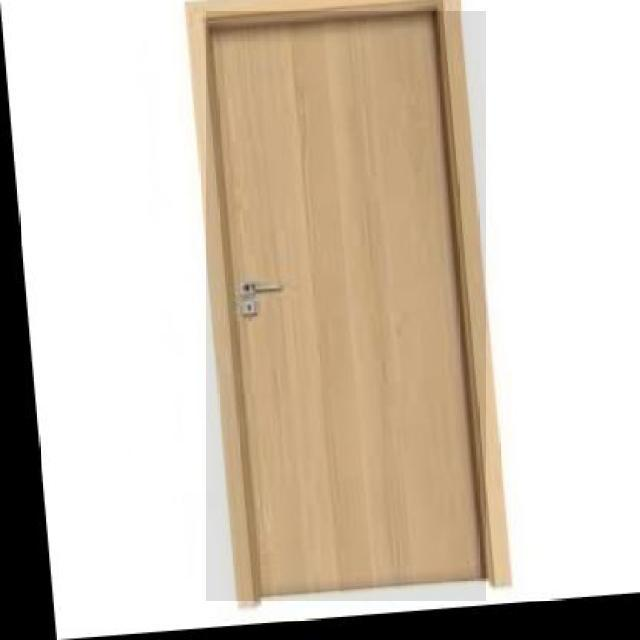door: (207, 3, 486, 602)
